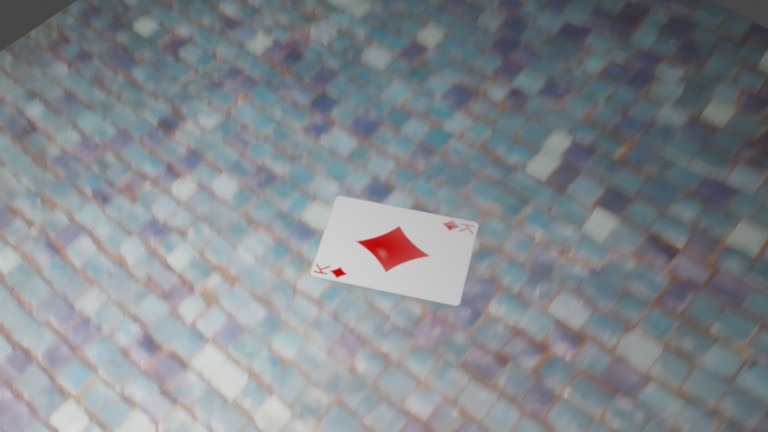king_of_diamonds: (125, 104, 140, 113), (176, 87, 190, 95)
